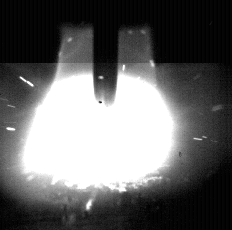arame: (94, 0, 119, 106)
poca: (29, 0, 173, 230)
